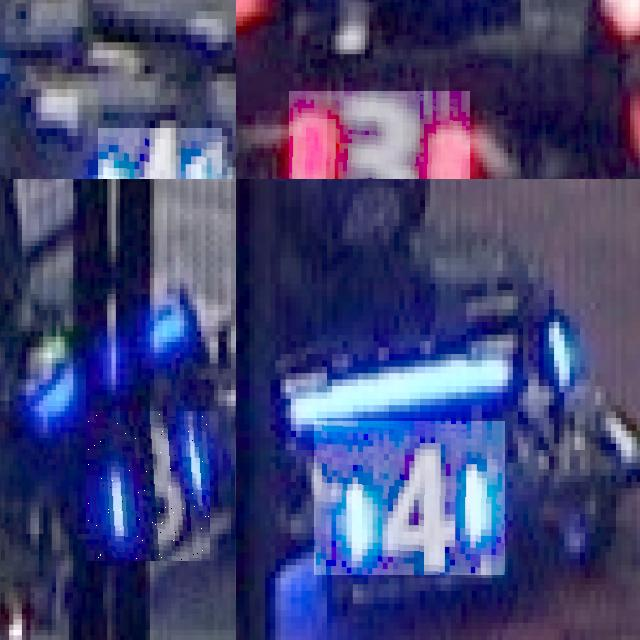B3: (86, 411, 210, 561)
B4: (314, 421, 505, 575), (98, 128, 222, 179)
R3: (289, 91, 470, 179)
